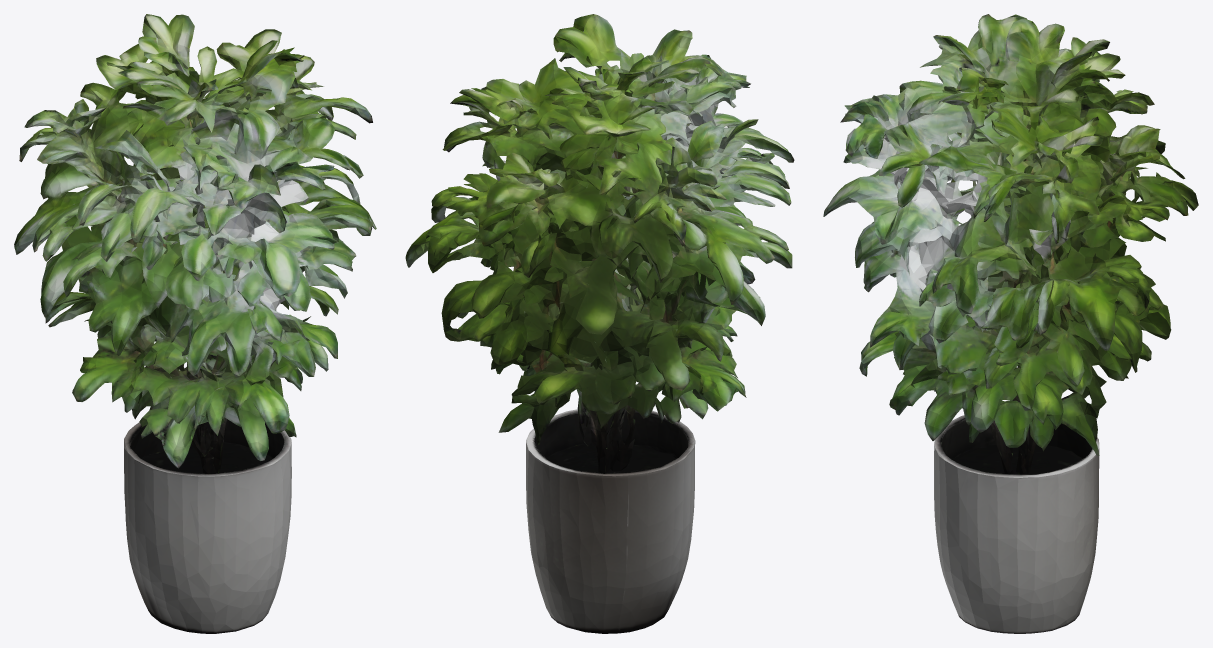
The picture shows the model from 3 angles, left to right: view 1: azimuth 30°, elevation 25°; view 2: azimuth 150°, elevation 25°; view 3: azimuth 270°, elevation 25°; orthographic projection.
Visible parts, largest first — view 1: world; view 2: world; view 3: world.
Boxes of the visible parts, <box> form: world: <box>14,14,376,633</box>; world: <box>405,14,794,633</box>; world: <box>823,14,1198,633</box>.
Size of the model in its own units: 0.6198 by 0.9998 by 0.6059.
Materials: 1 (1 with a texture image).
